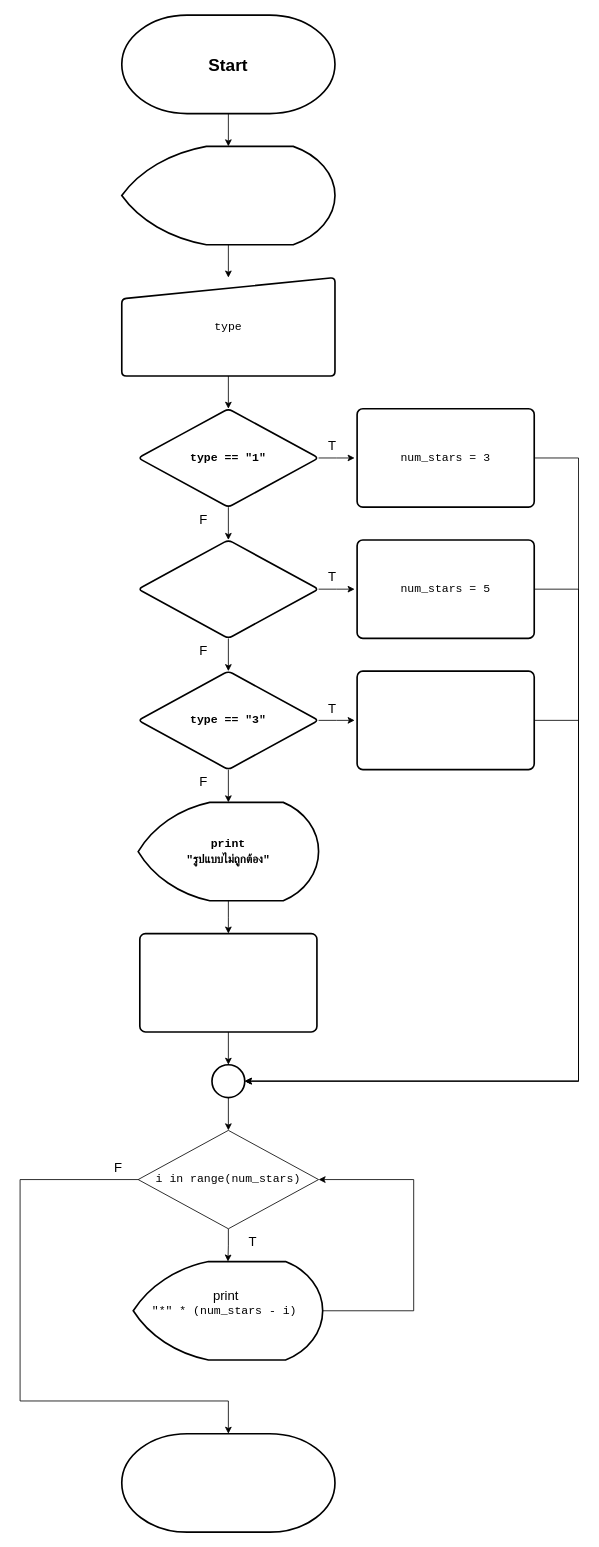
The diagram is 599 pixels wide and 1547 high, and some of its shapes have lost their labels. Here are the shapes that lost their labels. From the top down, the centre of each, then its label:
(x=228, y=195): print " เลือกขนาดที่ต้องการจะวาด : "
(x=228, y=589): type == "2"
(x=445, y=720): num_stars = 7
(x=228, y=982): num_stars = 0
(x=228, y=1483): Stop
